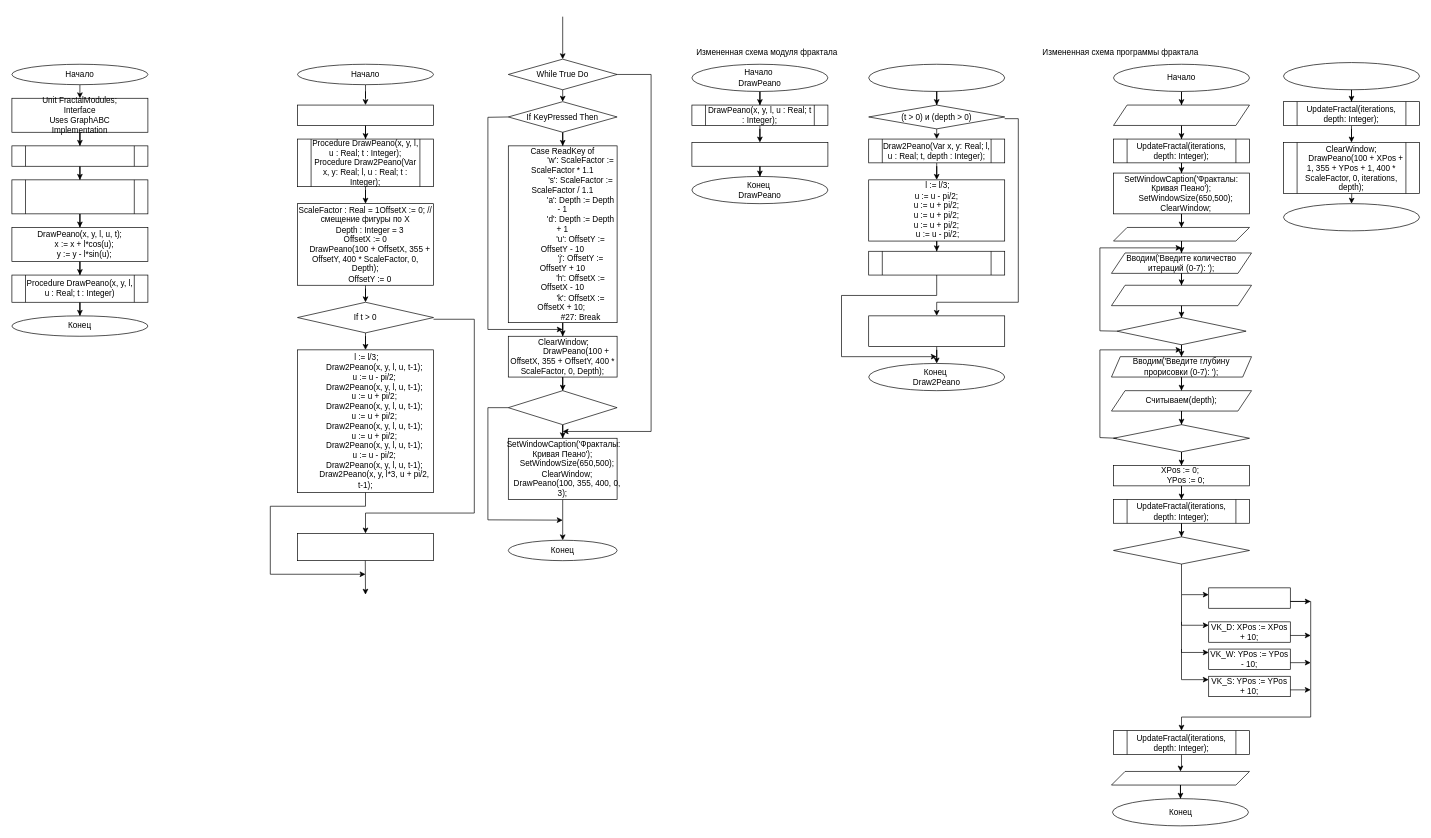
This 1431x838 diagram has some shape labels left out. The shapes that lost their labels are listed below. From the top down, each one's centre as x and y in pixels, then its label:
At pixel 936 77: "Начало Draw2Peano".
At pixel 1351 76: "Начало UpdateFractal".
At pixel 365 114: "Uses CRT, GraphABC, FractalModules;".
At pixel 1181 114: "ScaleFactor : Real = 1; XPos, YPos : Integer;".
At pixel 79 155: "Procedure DrawPeano(x, y, l, u : Real; t : Integer);".
At pixel 759 154: "x := x + l*cos(u); y := y - l*sin(u);".
At pixel 79 196: "Procedure Draw2Peano(Var x, y: Real; l, u : Real; t : Integer);".
At pixel 1181 234: "Вводим iterations, depth:Integer;".
At pixel 1351 217: "Конец UpdateFractal".
At pixel 936 263: "Draw2Peano(x, y, l*3, u + pi/2, t-1, depth-1);".
At pixel 1181 295: "Считываем(iterations);".
At pixel 936 330: "Line(Round(x), Round(y), Round(x + cos(u)*l), Round(y -sin(u)*l));".
At pixel 1181 331: "(iterations >= 0) и (iterations <= 7)".
At pixel 562 407: "Repeat Until KeyPressed;".
At pixel 1181 438: "(depth >= 0) и (depth <= 7);".
At pixel 365 547: "Line(Round(x), Round(y), Round(x + cos(u)*l), Round(y -sin(u)*l))".
At pixel 1181 550: "key?".
At pixel 1249 597: "VK_A: XPos := XPos - 10;".
At pixel 1180 778: "Считывем:".
